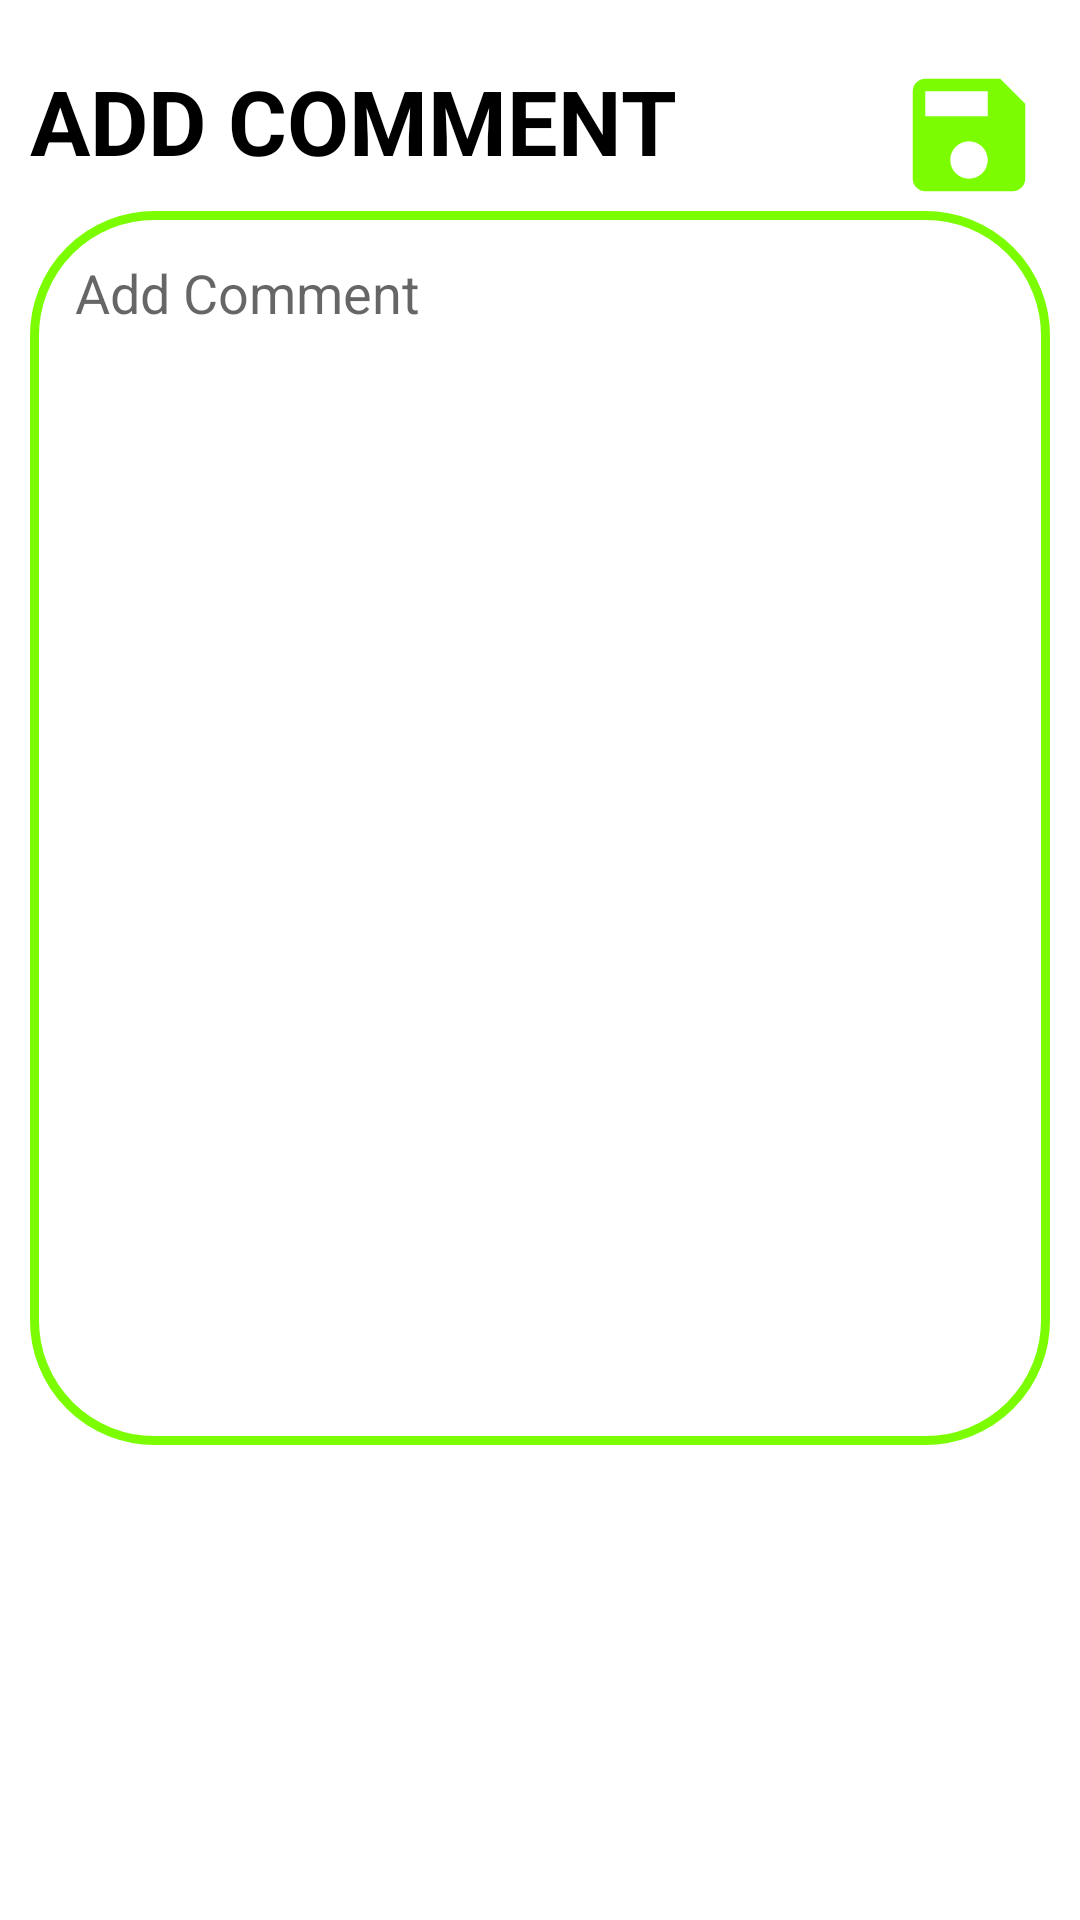

Icons on this 1080px x 1920px Android screen, each with the point to tap as (x,y):
save: (969,135)
